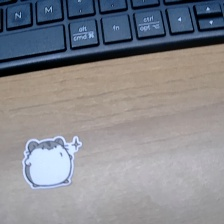mouse: (18, 134, 85, 189)
